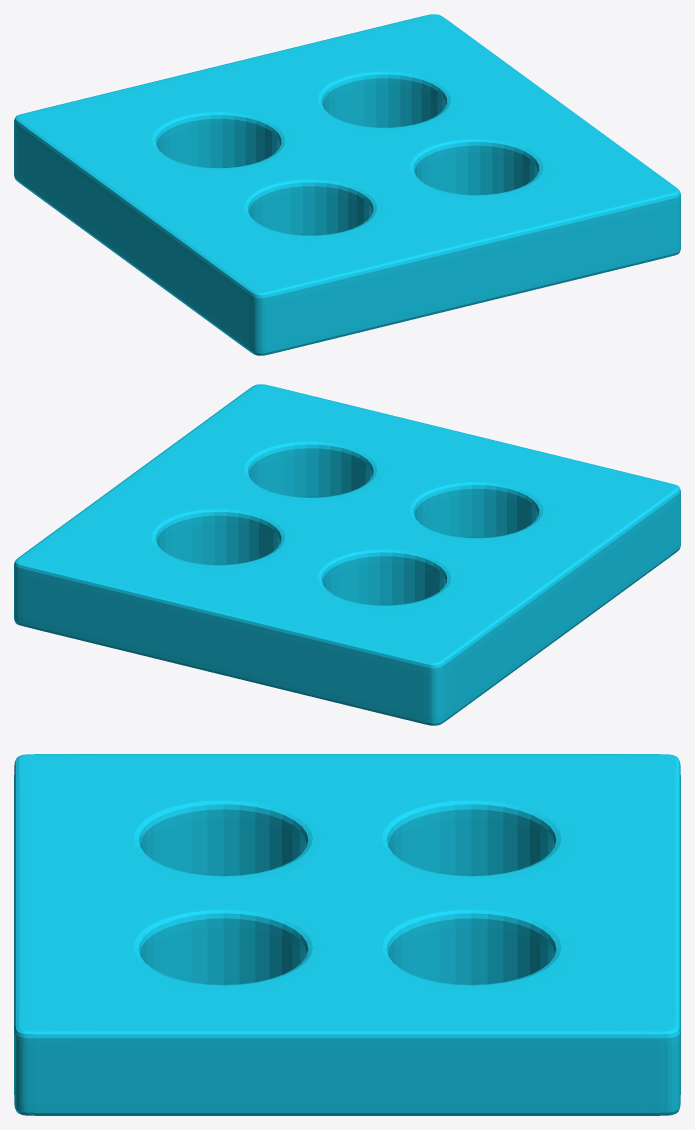
3 views of the same model, one above another, from view 1: azimuth 30°, elevation 25°; view 2: azimuth 150°, elevation 25°; view 3: azimuth 270°, elevation 25° (orthographic). The views are drawn at different scales.
Size of the model in its own units: 0.0469 by 0.00656 by 0.0469.
